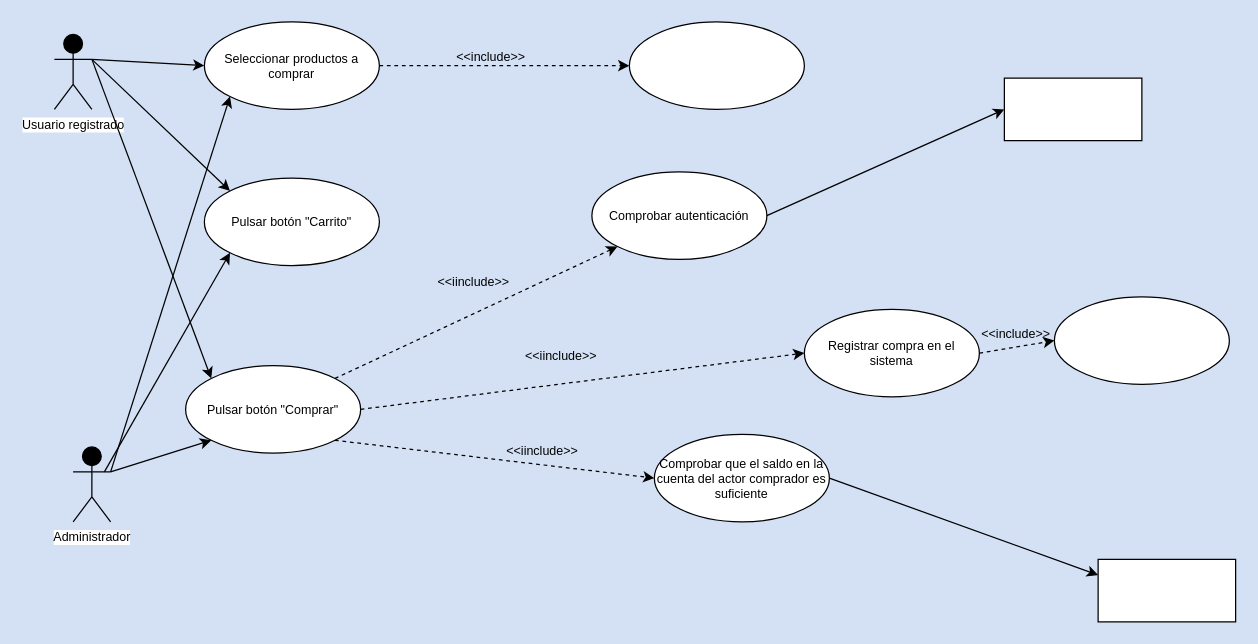
Image size: 1258x644. Some labels were removed from this diagram. Here are the shapes that lost their labels. From the top down, the box of each, then its label:
(628, 21, 804, 109): Guardar productos en carrito
(1003, 77, 1142, 141): Sistema
(1053, 296, 1229, 384): Mostrar mensaje de confirmación
(1097, 558, 1236, 622): Sistema externo
